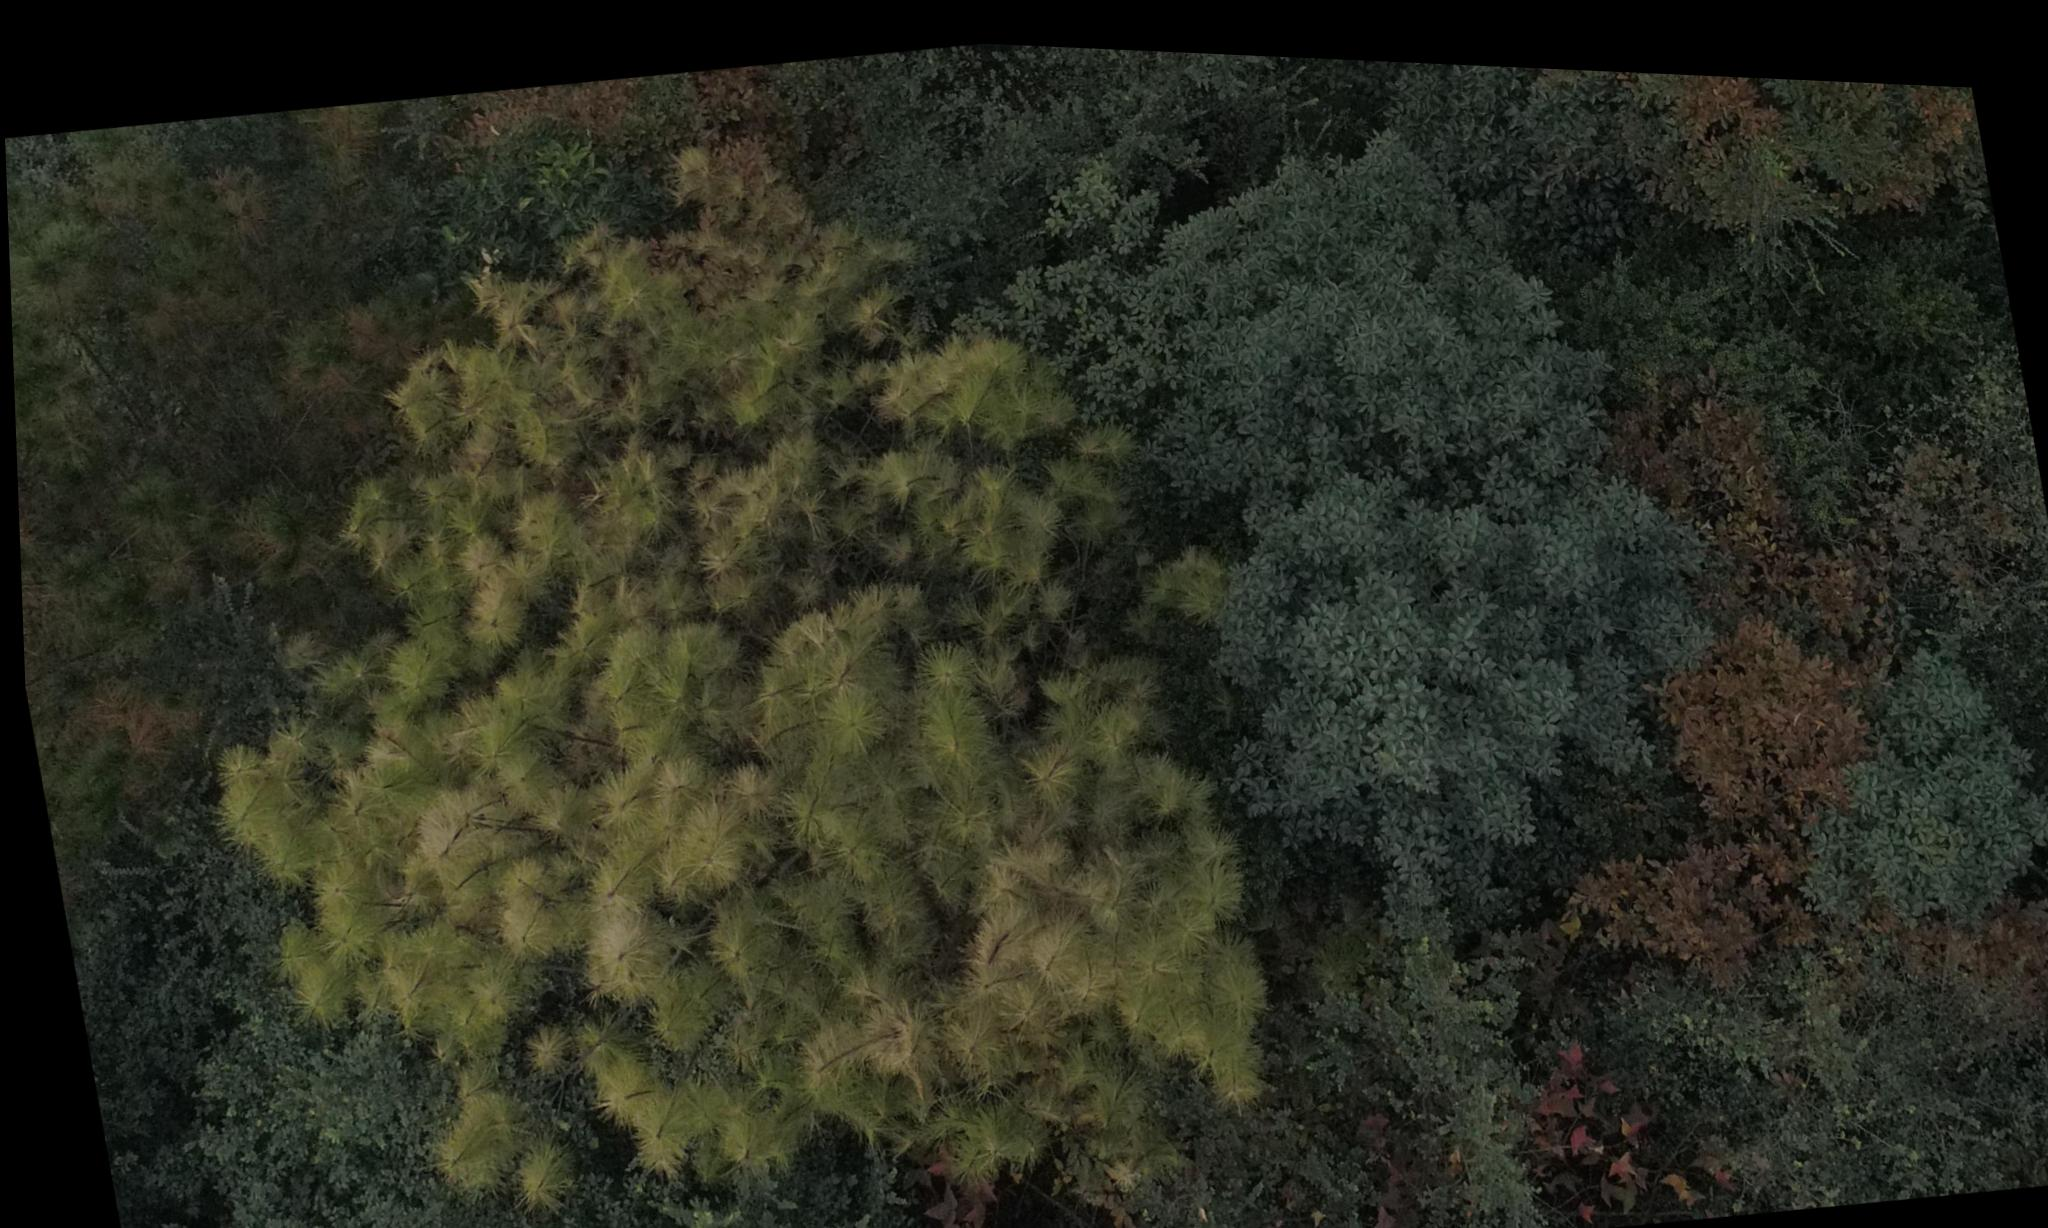light: (171, 164, 1273, 1228)
